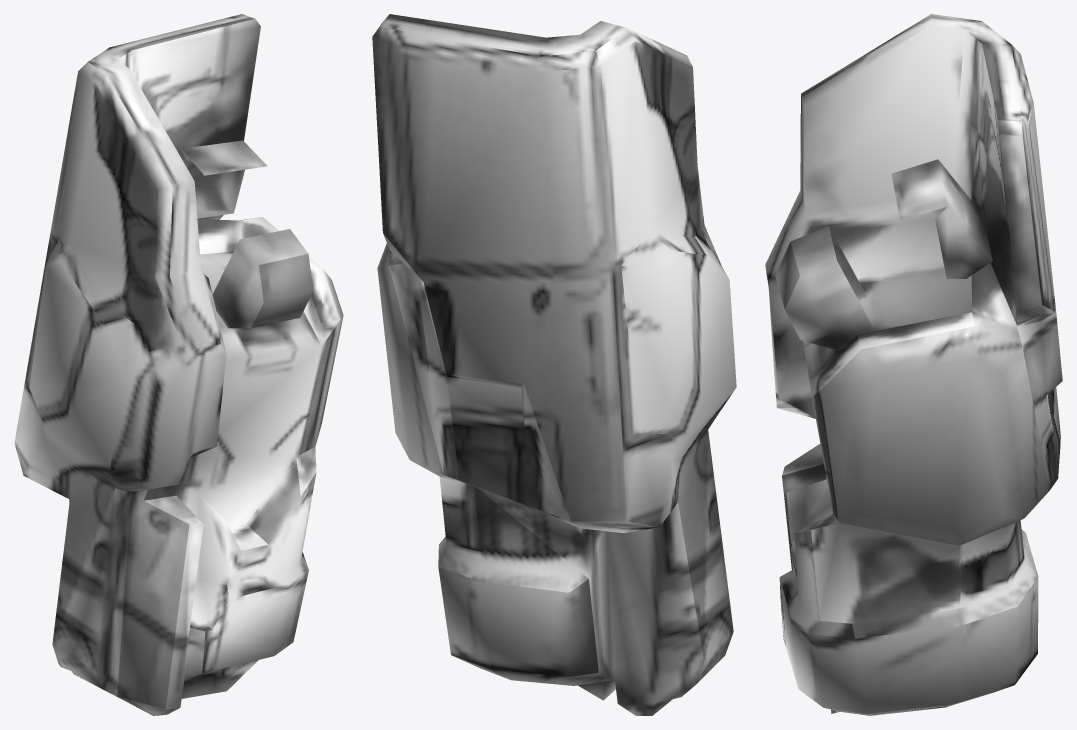
The model's file is r_fore.glb.
3 renders of one model, left to right at view 1: azimuth 30°, elevation 25°; view 2: azimuth 150°, elevation 25°; view 3: azimuth 270°, elevation 25°, orthographic. The views are drawn at different scales.
Parts seen in each view (by area): view 1: r_fore; view 2: r_fore; view 3: r_fore.
Boxes of the visible parts, <box> form: r_fore: <box>14,14,343,715</box>; r_fore: <box>372,14,736,715</box>; r_fore: <box>765,14,1062,715</box>.
Bounding box in the file's own units: 0.4156 × 0.9216 × 0.3735.
3 materials, 3 textured.
